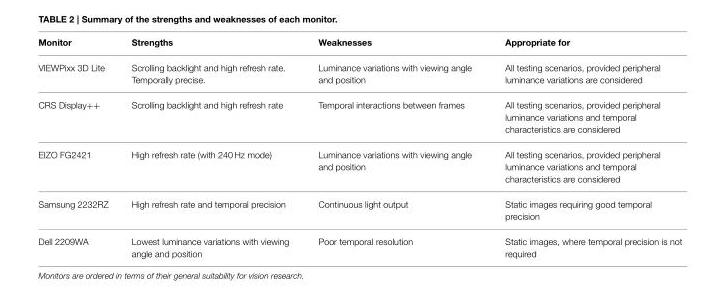table: (37, 37, 681, 258)
table column: (487, 37, 681, 258), (302, 37, 487, 258), (119, 37, 302, 258), (37, 37, 119, 258)
table column header: (37, 37, 681, 54)
table row: (37, 141, 681, 191), (37, 92, 681, 141), (37, 54, 681, 92), (37, 191, 681, 228), (37, 228, 681, 258), (37, 37, 681, 54)
